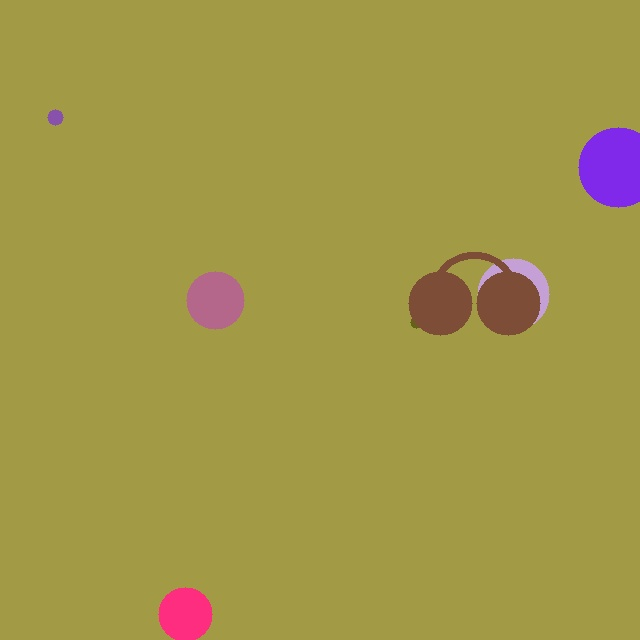over_ear: (404, 246, 544, 339)
